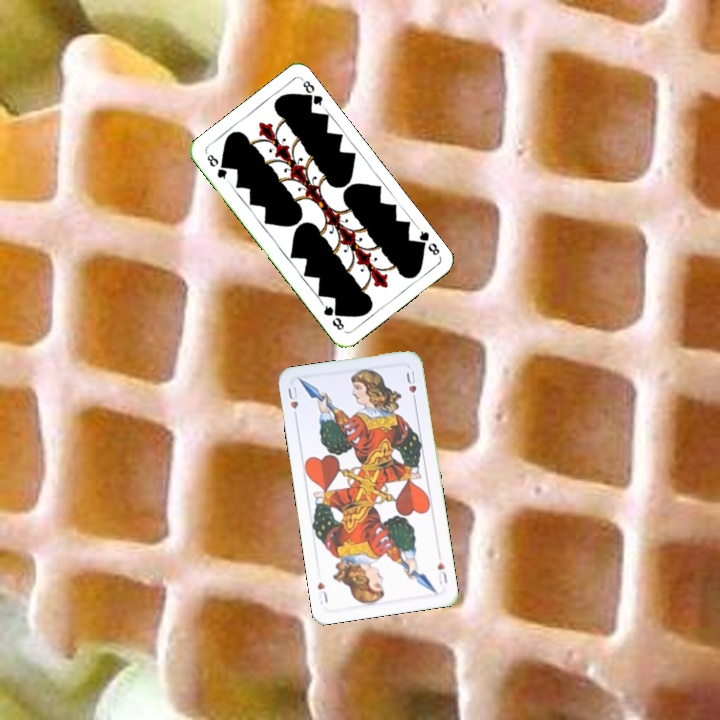G8: (412, 224, 443, 259), (203, 150, 230, 182)
HU: (284, 382, 302, 422), (433, 558, 450, 587)
